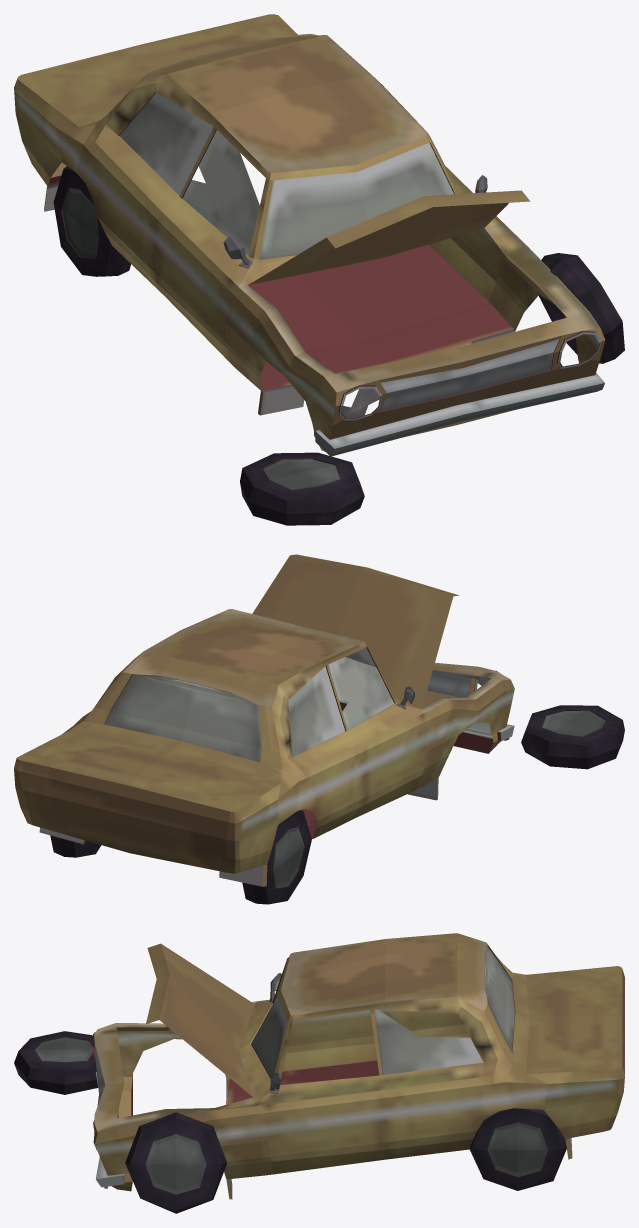
Rendered from Car2.fbx.
3 views of the same model, one above another, from view 1: azimuth 30°, elevation 25°; view 2: azimuth 150°, elevation 25°; view 3: azimuth 270°, elevation 25° (orthographic). The views are drawn at different scales.
Visible parts, largest first — view 1: Cube.001; view 2: Cube.001; view 3: Cube.001.
Boxes of the visible parts, box(x1,y1,x2,y2) form: Cube.001: box(14, 14, 624, 525); Cube.001: box(14, 554, 624, 904); Cube.001: box(14, 933, 624, 1213).
Size of the model in its own units: 322 by 166 by 488.
Materials: 1 (1 with a texture image).
